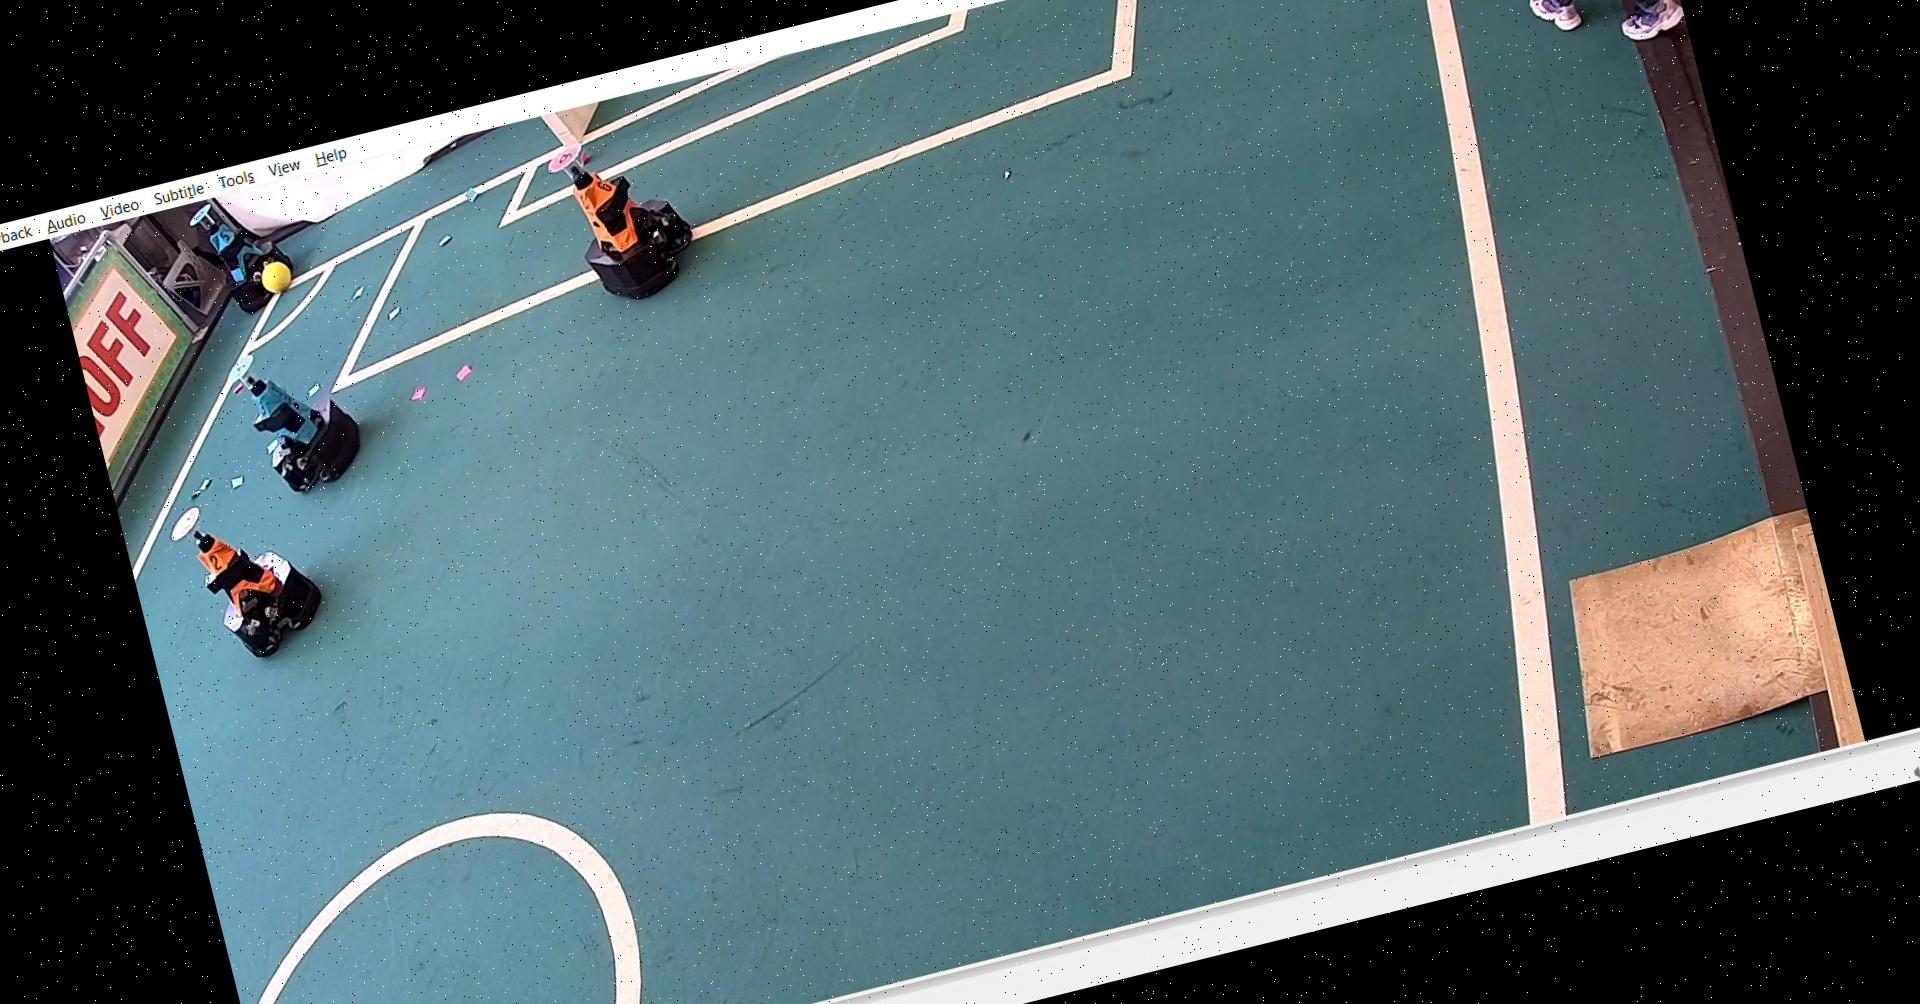Ball: (250, 253, 305, 302)
Team_Blue: (218, 329, 376, 508), (179, 179, 326, 329)
Team_Red: (163, 477, 344, 683), (541, 113, 714, 319)
